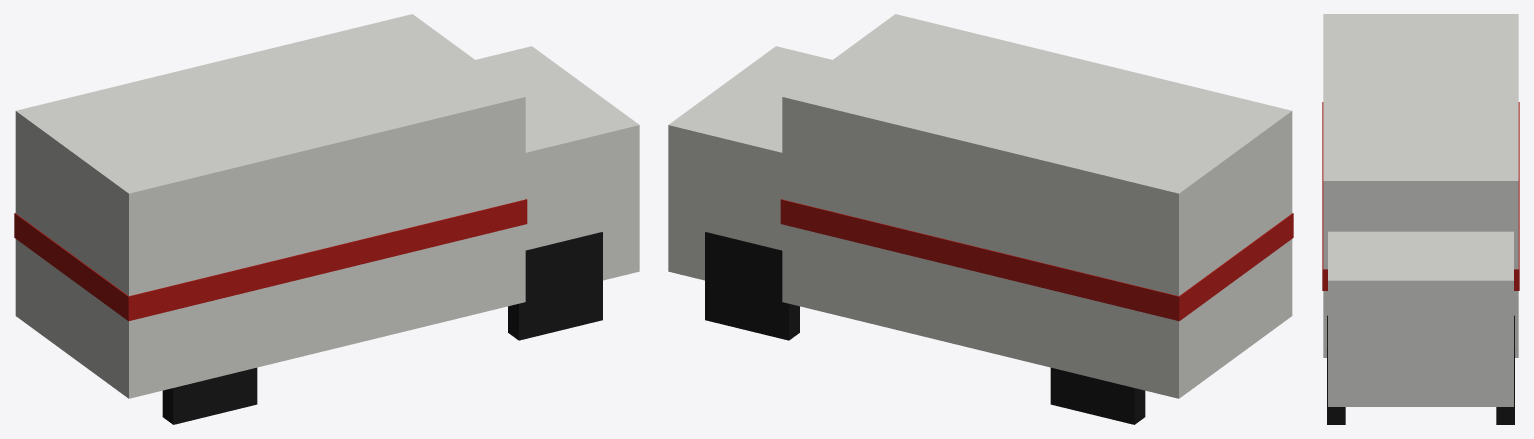
Rendered from blk_vehicle_ambulance.glb.
3 views of the same model, side by side, from view 1: azimuth 30°, elevation 25°; view 2: azimuth 150°, elevation 25°; view 3: azimuth 270°, elevation 25° (orthographic). The views are drawn at different scales.
Visible parts, largest first — view 1: blk_vehicle_ambulance-col; view 2: blk_vehicle_ambulance-col; view 3: blk_vehicle_ambulance-col.
Part boxes in pixels (left/top/right/bottom): blk_vehicle_ambulance-col: left=14, top=14, right=639, bottom=424; blk_vehicle_ambulance-col: left=668, top=14, right=1293, bottom=424; blk_vehicle_ambulance-col: left=1322, top=14, right=1519, bottom=424.
Bounding box in the file's own units: 5.51 × 2.5 × 2.12.
